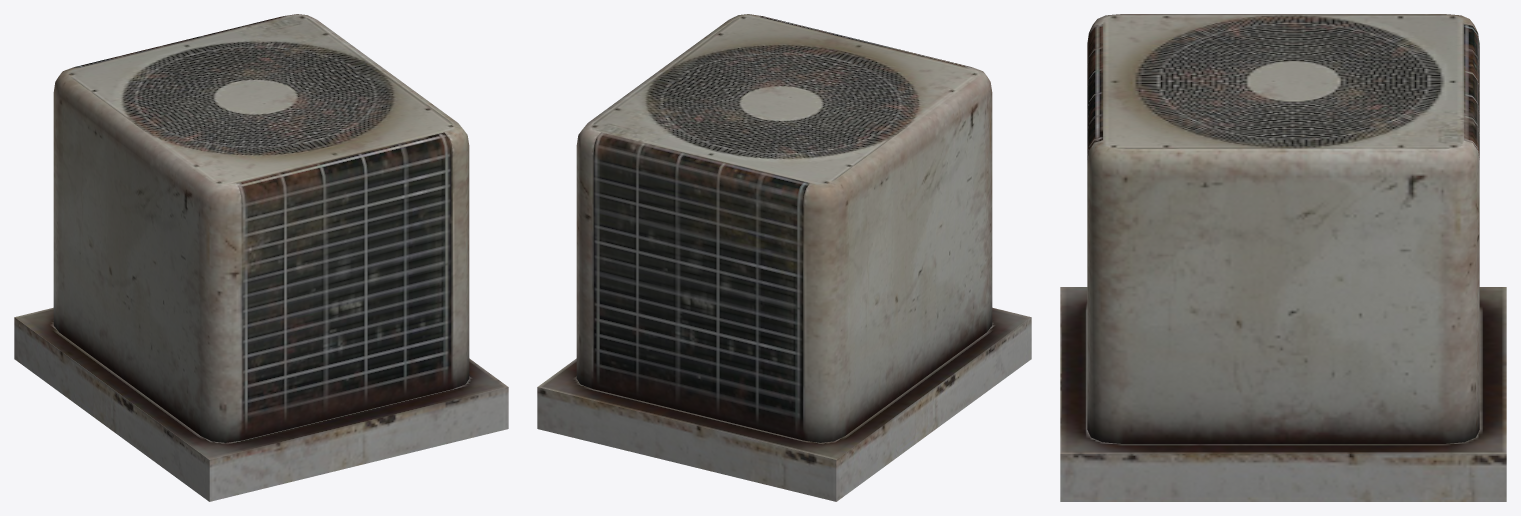
The model's file is Vertical_ExteriorUnit_L.FBX.
The picture shows the model from 3 angles, left to right: view 1: azimuth 30°, elevation 25°; view 2: azimuth 150°, elevation 25°; view 3: azimuth 270°, elevation 25°; orthographic projection. The views are drawn at different scales.
Visible parts, largest first — view 1: Vertical_ExteriorUnit_L; view 2: Vertical_ExteriorUnit_L; view 3: Vertical_ExteriorUnit_L.
Part boxes in pixels (x1=…): Vertical_ExteriorUnit_L: x1=14, y1=14, x2=508, y2=501; Vertical_ExteriorUnit_L: x1=537, y1=14, x2=1031, y2=501; Vertical_ExteriorUnit_L: x1=1060, y1=14, x2=1506, y2=501.
Size of the model in its own units: 139 by 130 by 157.
